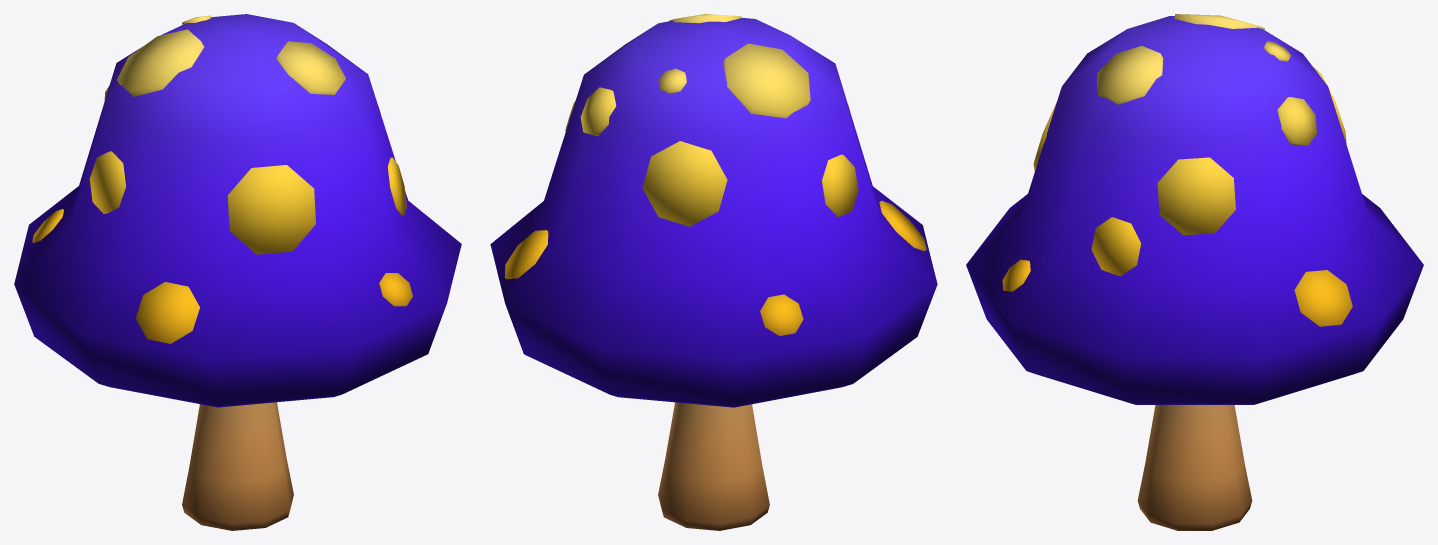
Rendered from SM_Vegetation_Mushroom_B_Balls_VioletAndYellow.fbx.
The picture shows the model from 3 angles, left to right: view 1: azimuth 30°, elevation 25°; view 2: azimuth 150°, elevation 25°; view 3: azimuth 270°, elevation 25°; orthographic projection.
Visible parts, largest first — view 1: SM_Vegetation_Mushroom_B_Balls_VioletAndYellow; view 2: SM_Vegetation_Mushroom_B_Balls_VioletAndYellow; view 3: SM_Vegetation_Mushroom_B_Balls_VioletAndYellow.
Part boxes in pixels (bbox=[...]): SM_Vegetation_Mushroom_B_Balls_VioletAndYellow: bbox=[14, 14, 461, 530]; SM_Vegetation_Mushroom_B_Balls_VioletAndYellow: bbox=[490, 14, 937, 530]; SM_Vegetation_Mushroom_B_Balls_VioletAndYellow: bbox=[966, 14, 1423, 530].
Bounding box in the file's own units: 44.91 × 54.66 × 47.22.
